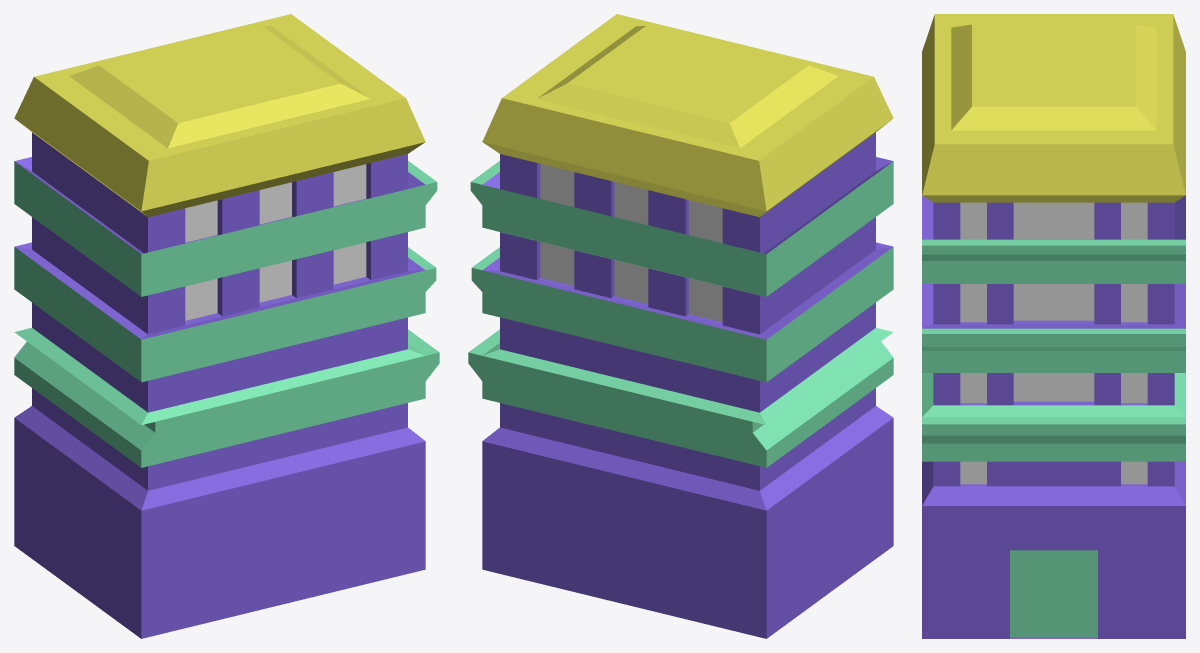
The model's file is FBX_UC_mBuilding_1fbx.fbx.
3 renders of one model, left to right at view 1: azimuth 30°, elevation 25°; view 2: azimuth 150°, elevation 25°; view 3: azimuth 270°, elevation 25°, orthographic. The views are drawn at different scales.
Parts seen in each view (by area): view 1: FBX_UC_mBuilding_1; view 2: FBX_UC_mBuilding_1; view 3: FBX_UC_mBuilding_1.
Part boxes in pixels (x1,y1,x2,y2): FBX_UC_mBuilding_1: (14,14,439,638); FBX_UC_mBuilding_1: (468,14,893,638); FBX_UC_mBuilding_1: (922,14,1185,638).
Size of the model in its own units: 1184 by 1833 by 874.
